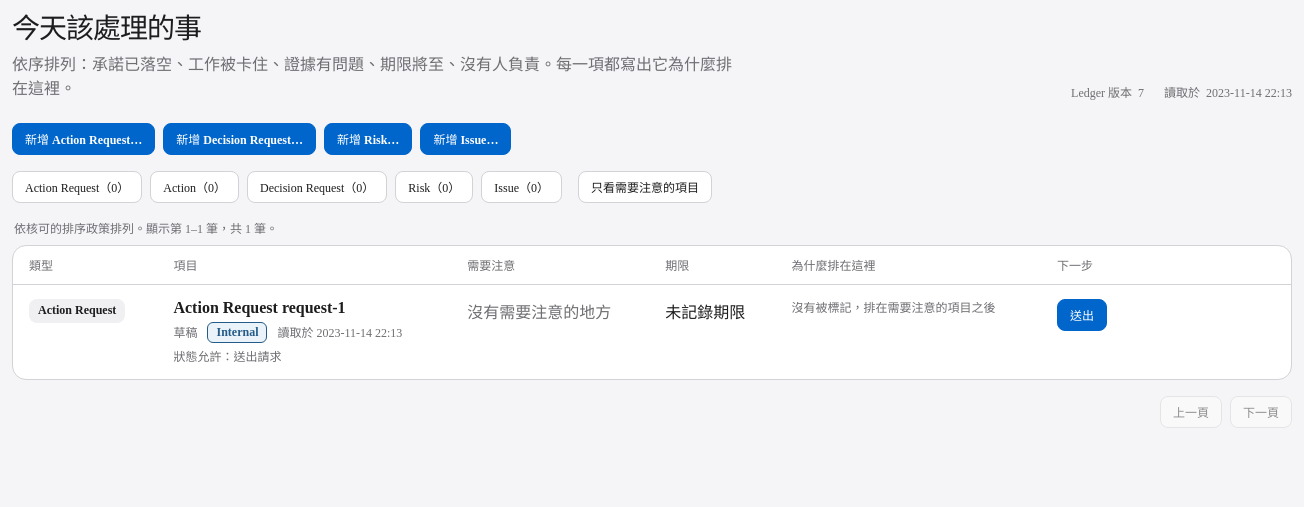
Test: WorkQueue record entry (slice 6E) › submits a draft at the version the row read and re-reads the queue
This screenshot has width=1304, height=507.
Click the button "送出": point(1082, 315) [1057,299,1107,331]
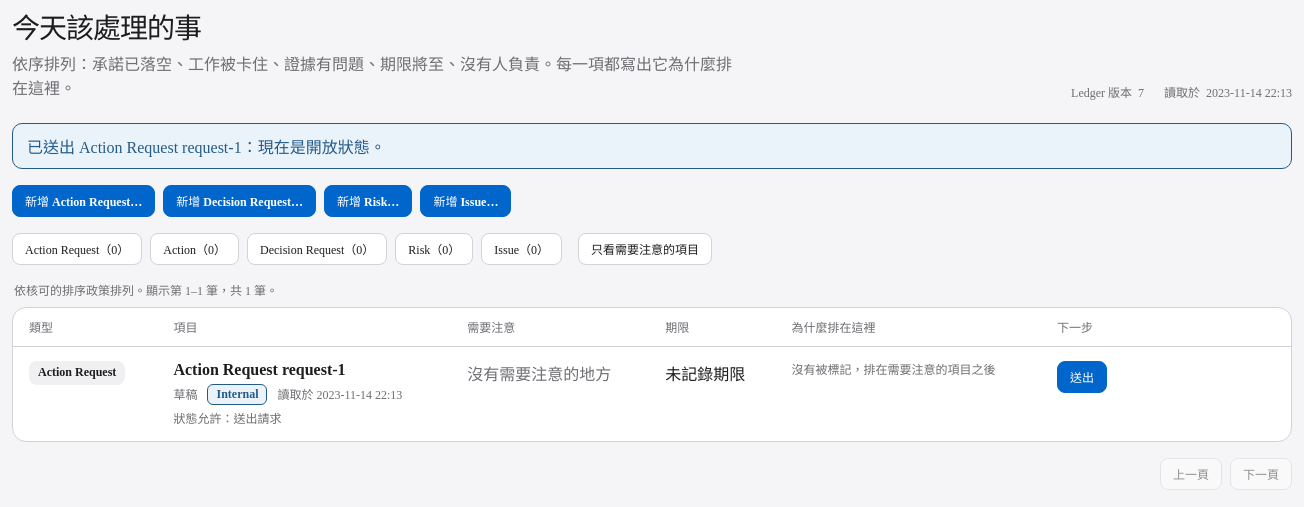
expect the message reads "已送出 Action Request request-1：現在是開放狀態。": met, box [27,139,386,156]
